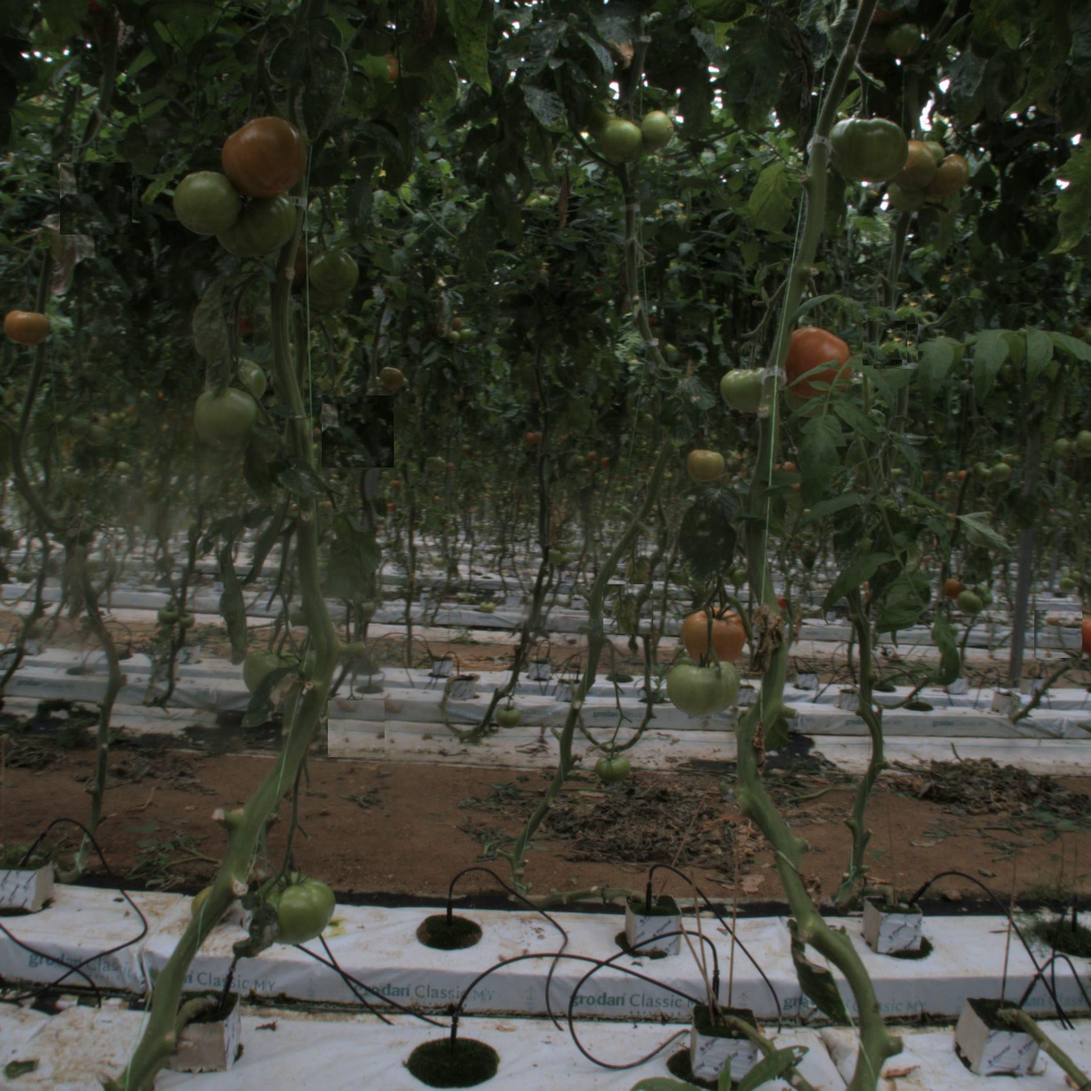fully-ripe: (783, 328, 848, 394), (681, 599, 747, 664), (5, 306, 51, 352)
semi-ripe: (224, 116, 307, 199), (920, 147, 968, 195), (889, 141, 937, 189), (684, 445, 726, 487)
unripe: (252, 861, 335, 944), (218, 184, 292, 259), (831, 111, 906, 185), (667, 645, 741, 720), (177, 171, 243, 237), (191, 385, 257, 450), (722, 357, 778, 414), (308, 248, 356, 296), (634, 111, 674, 151), (602, 123, 641, 162)
